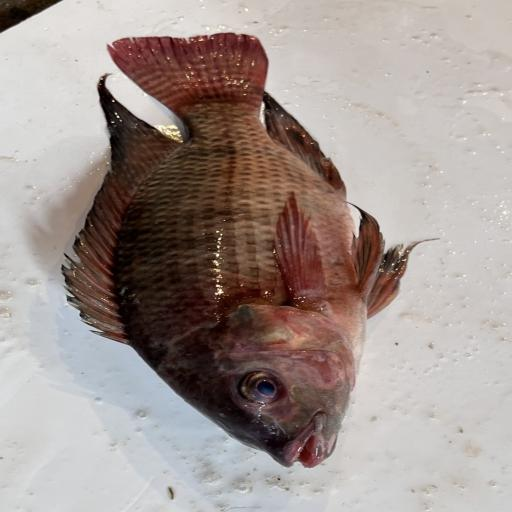Tilapia: (61, 33, 440, 468)
